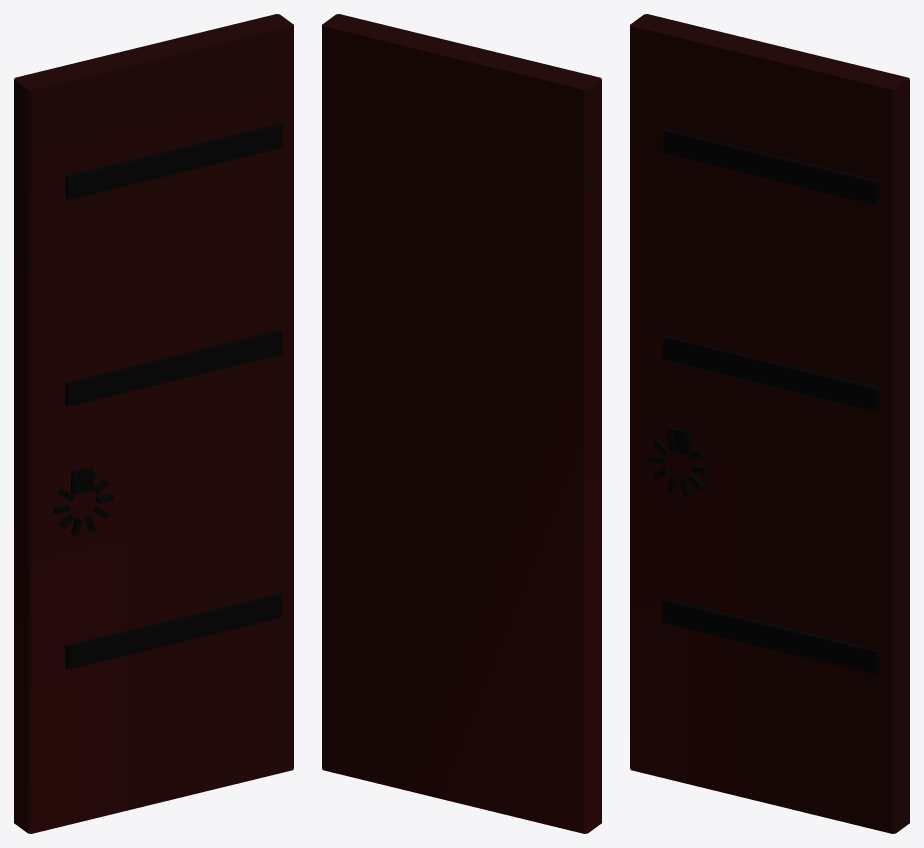
File: SilverbrookNorthridgeHouse5_Door2.fbx
3 renders of one model, left to right at view 1: azimuth 30°, elevation 25°; view 2: azimuth 150°, elevation 25°; view 3: azimuth 330°, elevation 25°, orthographic.
Visible parts, largest first — view 1: SM_SBNorthridgeHouse5_Door2_Part; view 2: SM_SBNorthridgeHouse5_Door2_Part; view 3: SM_SBNorthridgeHouse5_Door2_Part.
Part boxes in pixels (x1=…): SM_SBNorthridgeHouse5_Door2_Part: x1=14, y1=14, x2=293, y2=833; SM_SBNorthridgeHouse5_Door2_Part: x1=322, y1=14, x2=601, y2=833; SM_SBNorthridgeHouse5_Door2_Part: x1=630, y1=14, x2=909, y2=833.
Bounding box in the file's own units: 74 × 198 × 9.7.
